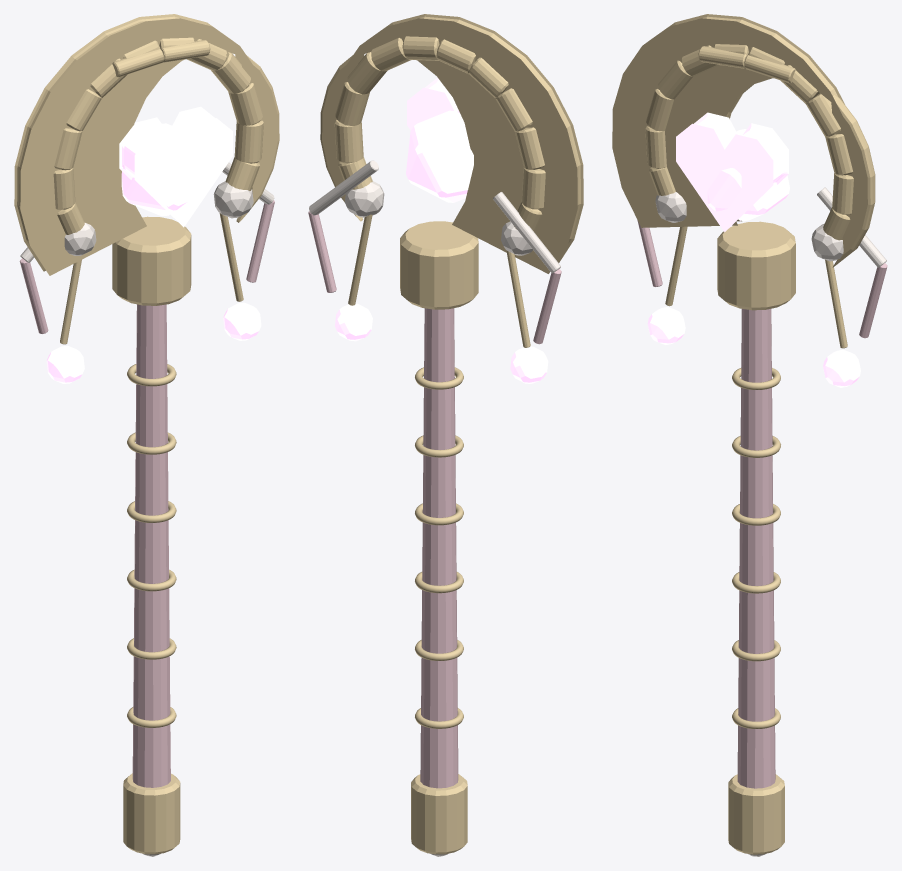
File: mage-staff-06-roseheart.glb
3 renders of one model, left to right at view 1: azimuth 30°, elevation 25°; view 2: azimuth 150°, elevation 25°; view 3: azimuth 330°, elevation 25°, orthographic.
Parts seen in each view (by area): view 1: mage-staff-06-roseheart_MoonCrescent, mage-staff-06-roseheart_WoodenShaft, mage-staff-06-roseheart_RoseHeartOrb, mage-staff-06-roseheart_CrownCollar, mage-staff-06-roseheart_LowerFerrule, mage-staff-06-roseheart_CrownStar, mage-staff-06-roseheart_HangingCharm_1, mage-staff-06-roseheart_HangingCharm_-1, mage-staff-06-roseheart_CrescentTip_1, mage-staff-06-roseheart_CrescentArc_11, mage-staff-06-roseheart_CrescentArc_10, mage-staff-06-roseheart_CrescentArc_9 (+18 smaller); view 2: mage-staff-06-roseheart_MoonCrescent, mage-staff-06-roseheart_WoodenShaft, mage-staff-06-roseheart_CrownCollar, mage-staff-06-roseheart_CrownStar, mage-staff-06-roseheart_LowerFerrule, mage-staff-06-roseheart_RoseHeartOrb, mage-staff-06-roseheart_RibbonTail_-1_A, mage-staff-06-roseheart_HangingCharm_-1, mage-staff-06-roseheart_HangingCharm_1, mage-staff-06-roseheart_CrescentArc_11, mage-staff-06-roseheart_CrescentTip_1, mage-staff-06-roseheart_RibbonTail_1_A (+16 smaller); view 3: mage-staff-06-roseheart_MoonCrescent, mage-staff-06-roseheart_WoodenShaft, mage-staff-06-roseheart_RoseHeartOrb, mage-staff-06-roseheart_CrownCollar, mage-staff-06-roseheart_LowerFerrule, mage-staff-06-roseheart_CrownStar, mage-staff-06-roseheart_HangingCharm_-1, mage-staff-06-roseheart_HangingCharm_1, mage-staff-06-roseheart_CrescentArc_9, mage-staff-06-roseheart_CrescentArc_11, mage-staff-06-roseheart_CrescentArc_10, mage-staff-06-roseheart_CrescentTip_1 (+15 smaller).
Boxes of the visible parts, x1,y1,x2,y2 form: mage-staff-06-roseheart_MoonCrescent: [14, 14, 279, 275]; mage-staff-06-roseheart_WoodenShaft: [132, 304, 170, 787]; mage-staff-06-roseheart_RoseHeartOrb: [119, 106, 232, 227]; mage-staff-06-roseheart_CrownCollar: [112, 216, 191, 305]; mage-staff-06-roseheart_LowerFerrule: [123, 773, 180, 854]; mage-staff-06-roseheart_CrownStar: [121, 123, 201, 216]; mage-staff-06-roseheart_HangingCharm_1: [223, 302, 261, 340]; mage-staff-06-roseheart_HangingCharm_-1: [46, 345, 84, 383]; mage-staff-06-roseheart_CrescentTip_1: [213, 181, 253, 218]; mage-staff-06-roseheart_CrescentArc_11: [234, 120, 263, 163]; mage-staff-06-roseheart_CrescentArc_10: [228, 83, 262, 125]; mage-staff-06-roseheart_CrescentArc_9: [211, 51, 250, 93]; mage-staff-06-roseheart_MoonCrescent: [320, 14, 583, 273]; mage-staff-06-roseheart_WoodenShaft: [420, 308, 458, 788]; mage-staff-06-roseheart_CrownCollar: [400, 221, 478, 309]; mage-staff-06-roseheart_CrownStar: [406, 110, 473, 202]; mage-staff-06-roseheart_LowerFerrule: [411, 774, 467, 854]; mage-staff-06-roseheart_RoseHeartOrb: [407, 77, 459, 130]; mage-staff-06-roseheart_RibbonTail_-1_A: [493, 192, 560, 273]; mage-staff-06-roseheart_HangingCharm_-1: [510, 346, 548, 383]; mage-staff-06-roseheart_HangingCharm_1: [335, 303, 372, 341]; mage-staff-06-roseheart_CrescentArc_11: [334, 120, 363, 163]; mage-staff-06-roseheart_CrescentTip_1: [345, 181, 384, 217]; mage-staff-06-roseheart_RibbonTail_1_A: [309, 160, 378, 215]; mage-staff-06-roseheart_MoonCrescent: [612, 14, 875, 267]; mage-staff-06-roseheart_WoodenShaft: [737, 309, 775, 788]; mage-staff-06-roseheart_RoseHeartOrb: [676, 112, 788, 232]; mage-staff-06-roseheart_CrownCollar: [717, 221, 795, 310]; mage-staff-06-roseheart_LowerFerrule: [728, 774, 784, 854]; mage-staff-06-roseheart_CrownStar: [707, 129, 789, 221]; mage-staff-06-roseheart_HangingCharm_-1: [647, 307, 685, 344]; mage-staff-06-roseheart_HangingCharm_1: [823, 349, 860, 387]; mage-staff-06-roseheart_CrescentArc_9: [806, 93, 840, 136]; mage-staff-06-roseheart_CrescentArc_11: [832, 173, 853, 214]; mage-staff-06-roseheart_CrescentArc_10: [825, 134, 853, 175]; mage-staff-06-roseheart_CrescentTip_1: [811, 223, 843, 261].
Bounding box in the file's own units: 0.6908 × 2.09 × 0.2442.
